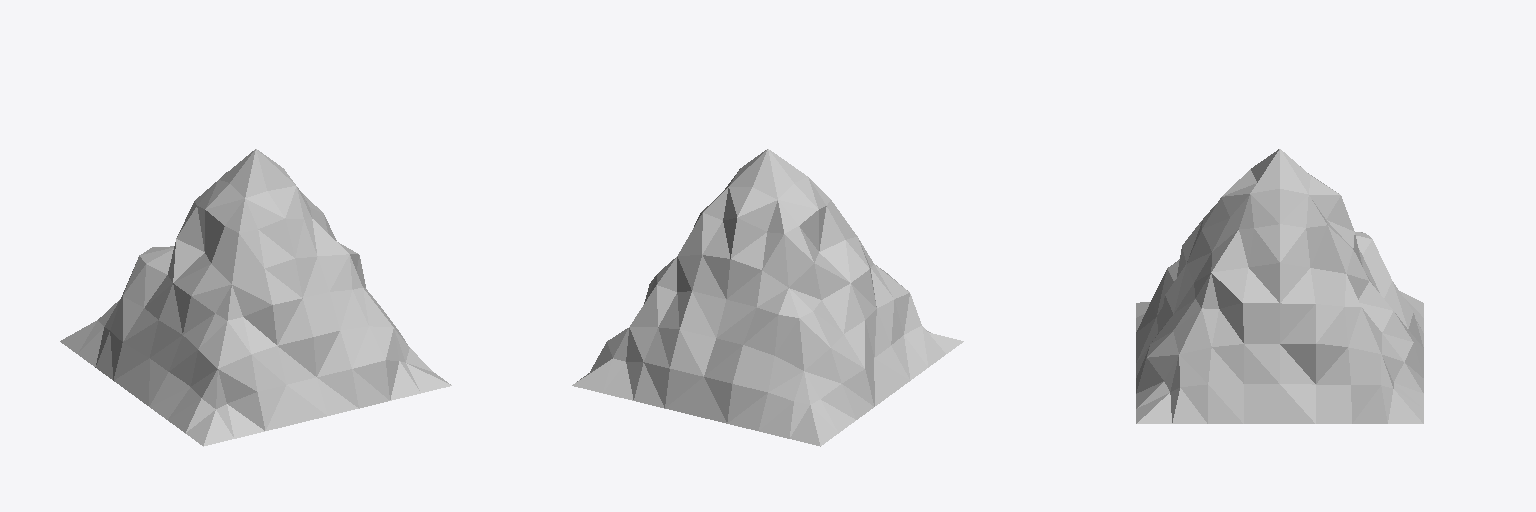
The model's file is pillar.obj.
The picture shows the model from 3 angles: view 1: azimuth 30°, elevation 25°; view 2: azimuth 150°, elevation 25°; view 3: azimuth 270°, elevation 25°; orthographic projection.
Visible parts, largest first — view 1: Cube.010_Cube.009; view 2: Cube.010_Cube.009; view 3: Cube.010_Cube.009.
Boxes of the visible parts, x1=… form: Cube.010_Cube.009: x1=60, y1=149, x2=451, y2=446; Cube.010_Cube.009: x1=572, y1=149, x2=963, y2=446; Cube.010_Cube.009: x1=1136, y1=149, x2=1423, y2=423.
Bounding box in the file's own units: 1 × 0.825 × 1.